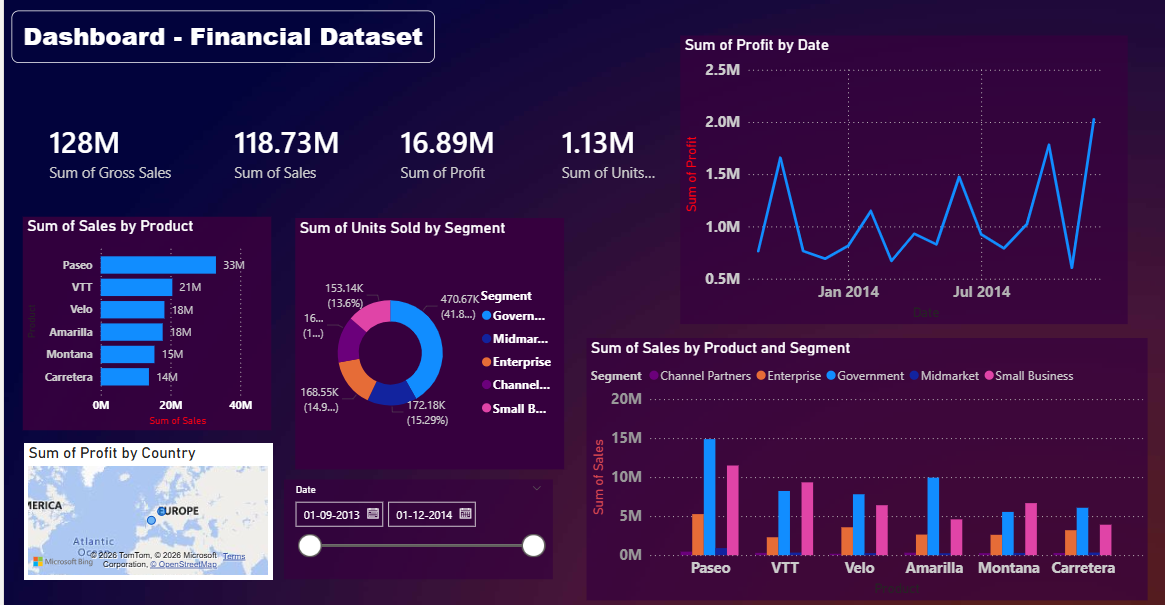

What the dashboard file says about the page in this screenshot:
{"tool":"powerbi","page":{"name":"Page 1","canvas":[1280,720],"ordinal":0},"visuals":[{"type":"textbox","box":[8.8,35,464.9,57.4],"z":0},{"type":"cardVisual","fields":{"Data":["Sum(financials.Gross Sales)"]},"box":[20.4,127.4,203.3,126.4],"z":1000},{"type":"cardVisual","fields":{"Data":["Sum(financials. Sales)"]},"box":[223.7,127.6,192.1,126.2],"z":2000},{"type":"cardVisual","fields":{"Data":["Sum(financials.Units Sold)"]},"box":[583.2,127.6,181.1,126.2],"z":3000},{"type":"cardVisual","fields":{"Data":["Sum(financials.Profit)"]},"box":[406.1,127.3,176.8,126.3],"z":4000},{"type":"barChart","fields":{"Y":["Sum(financials. Sales)"],"Category":["financials.Product"]},"box":[20.6,262.1,273.1,234.6],"z":5000},{"type":"donutChart","fields":{"Y":["Sum(financials.Units Sold)"],"Category":["financials.Segment"]},"box":[319.7,263.5,295,275.8],"z":6000},{"type":"map","fields":{"Category":["financials.Country"],"Size":["Sum(financials.Profit)"]},"box":[22,510.5,273.1,149.6],"z":7000},{"type":"slicer","fields":{"Values":["financials.Date"]},"box":[307.4,550.3,295,109.8],"z":8000},{"type":"clusteredColumnChart","fields":{"Category":["financials.Product"],"Y":["Sum(financials. Sales)"],"Series":["financials.Segment"]},"box":[639.5,395.2,616.1,288.2],"z":9000},{"type":"lineChart","fields":{"Category":["financials.Date"],"Y":["Sum(financials.Profit)"]},"box":[742.4,63.1,491.3,317],"z":10000}]}

Visuals, with their boxes on the page's 1280x720 design canvas (x1, y1, x2, y2). These are canvas units, not pixel positions in the 1165x605 screenshot, which may show the page scaled, cropped or inside an application window:
textbox: locate(9, 35, 474, 92)
cardVisual - Sum(financials.Gross Sales): locate(20, 127, 224, 254)
cardVisual - Sum(financials. Sales): locate(224, 128, 416, 254)
cardVisual - Sum(financials.Units Sold): locate(583, 128, 764, 254)
cardVisual - Sum(financials.Profit): locate(406, 127, 583, 254)
barChart - Sum(financials. Sales) x financials.Product: locate(21, 262, 294, 497)
donutChart - Sum(financials.Units Sold) x financials.Segment: locate(320, 264, 615, 539)
map - financials.Country x Sum(financials.Profit): locate(22, 510, 295, 660)
slicer - financials.Date: locate(307, 550, 602, 660)
clusteredColumnChart - financials.Product x Sum(financials. Sales): locate(640, 395, 1256, 683)
lineChart - financials.Date x Sum(financials.Profit): locate(742, 63, 1234, 380)
